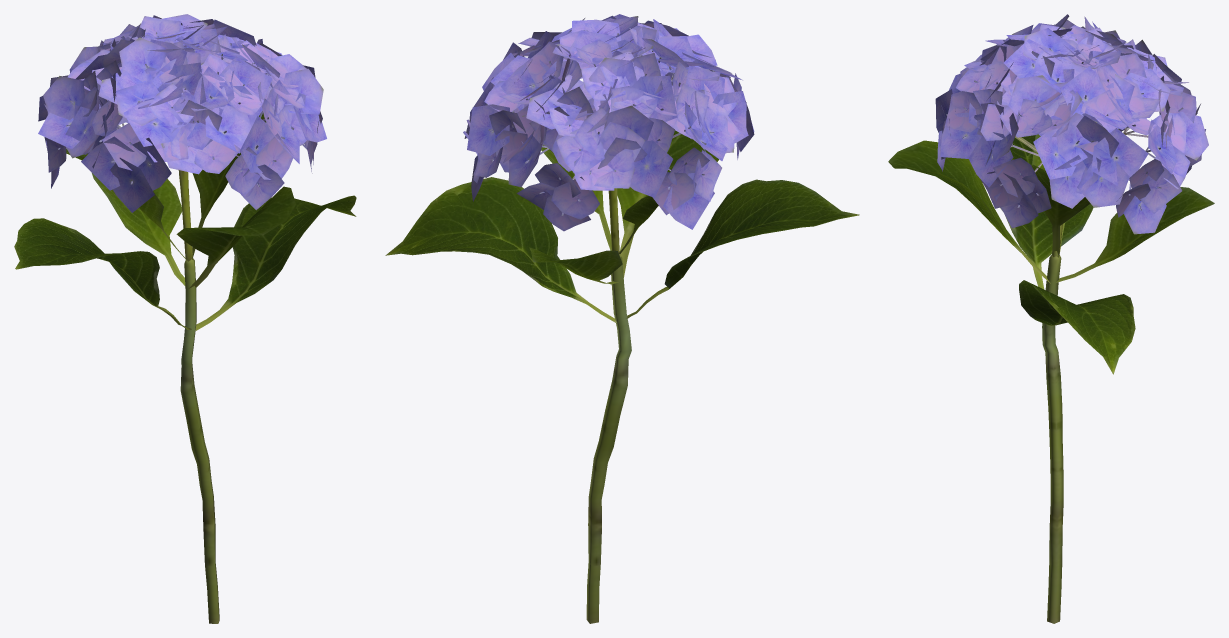
The model's file is Hydrangea OG SHORT PURPLE.glb.
The picture shows the model from 3 angles, left to right: view 1: azimuth 30°, elevation 25°; view 2: azimuth 150°, elevation 25°; view 3: azimuth 270°, elevation 25°; orthographic projection. The views are drawn at different scales.
Visible parts, largest first — view 1: Hydrangea; view 2: Hydrangea; view 3: Hydrangea.
Part boxes in pixels (<box>): Hydrangea: <box>14,14,356,623</box>; Hydrangea: <box>385,14,859,623</box>; Hydrangea: <box>888,14,1214,623</box>.
Bounding box in the file's own units: 1.38 × 1.94 × 1.
1 material, 1 textured.
